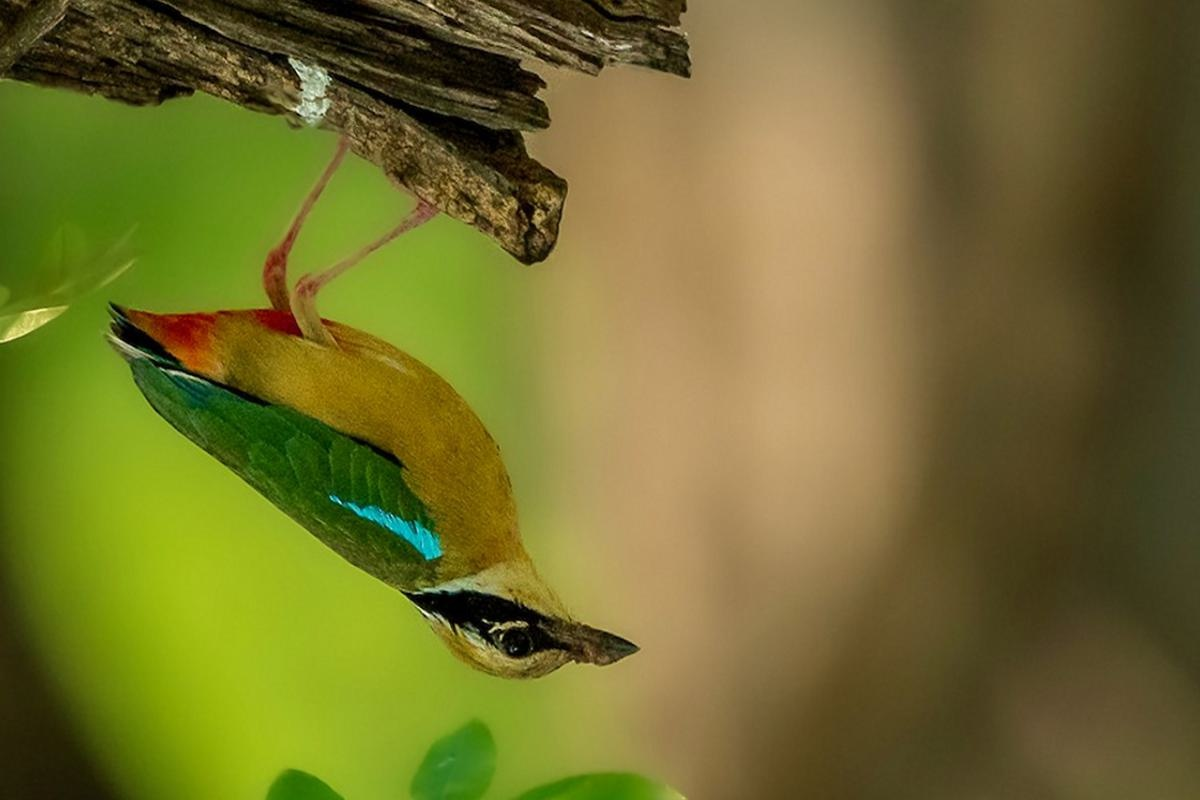pitta: (109, 122, 653, 698)
